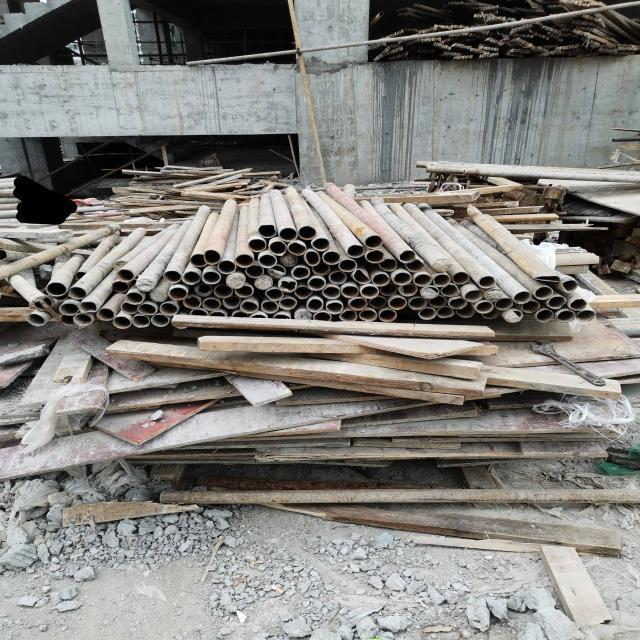pipe: (31, 296, 54, 311), (46, 282, 68, 297), (225, 274, 245, 290), (286, 240, 306, 256), (364, 234, 384, 250), (352, 268, 372, 284), (431, 258, 452, 273), (365, 248, 384, 264), (398, 248, 417, 264), (348, 296, 368, 311), (269, 240, 287, 256), (478, 274, 496, 290), (234, 253, 253, 268), (258, 253, 277, 268), (371, 272, 390, 287), (26, 312, 46, 326), (58, 302, 78, 316), (134, 278, 154, 292), (148, 288, 168, 302), (181, 271, 201, 285), (202, 250, 222, 264), (202, 298, 222, 312), (278, 228, 298, 242), (278, 278, 298, 292), (340, 284, 360, 298), (360, 285, 380, 299), (419, 285, 439, 299), (408, 296, 428, 310), (440, 284, 460, 298), (512, 290, 532, 304), (534, 286, 554, 300), (546, 296, 566, 310), (72, 313, 93, 326), (503, 310, 524, 323), (298, 225, 316, 240), (125, 291, 144, 305), (159, 302, 178, 316), (168, 286, 187, 300), (267, 265, 286, 279), (265, 288, 284, 302), (291, 266, 310, 280), (312, 262, 331, 276), (112, 316, 132, 329), (162, 270, 182, 283), (253, 276, 273, 289), (234, 285, 254, 298), (221, 296, 241, 309), (246, 239, 266, 252), (258, 225, 278, 238), (568, 298, 588, 311), (304, 250, 320, 266), (562, 278, 578, 294), (452, 270, 469, 285), (116, 268, 134, 282), (150, 314, 168, 328), (202, 270, 220, 284), (218, 260, 236, 274), (214, 284, 232, 298), (280, 253, 298, 267), (260, 300, 278, 314), (322, 251, 340, 265), (308, 277, 326, 291), (306, 298, 324, 312), (338, 258, 356, 272), (347, 244, 365, 258), (368, 295, 386, 309), (359, 308, 377, 322), (378, 308, 396, 322), (389, 296, 407, 310), (392, 272, 410, 286), (406, 258, 424, 272), (484, 288, 502, 302), (96, 308, 115, 321), (182, 296, 201, 309), (245, 265, 264, 278), (413, 274, 432, 287), (556, 310, 575, 323), (67, 288, 87, 300), (78, 302, 98, 314), (137, 304, 157, 316), (193, 284, 213, 296), (278, 298, 298, 310), (328, 272, 348, 284), (448, 298, 468, 310), (576, 310, 596, 322), (120, 301, 138, 314), (132, 315, 150, 328), (240, 300, 258, 313), (322, 286, 340, 299), (325, 301, 343, 314), (379, 258, 397, 271), (399, 283, 417, 296), (418, 307, 436, 320), (432, 274, 450, 287), (457, 305, 475, 318), (494, 297, 512, 310), (534, 274, 560, 283), (522, 300, 540, 313), (311, 238, 330, 250), (428, 296, 447, 308), (190, 253, 206, 267), (436, 306, 454, 318), (464, 290, 482, 302), (482, 308, 500, 320), (536, 310, 554, 322), (476, 301, 492, 314), (380, 284, 397, 296), (339, 310, 357, 321), (112, 281, 128, 293), (294, 310, 312, 320), (60, 314, 74, 326), (189, 308, 208, 316), (230, 310, 248, 318), (112, 261, 126, 271), (270, 314, 291, 320), (74, 272, 88, 280), (0, 248, 8, 262), (209, 311, 226, 317), (250, 313, 265, 319)
